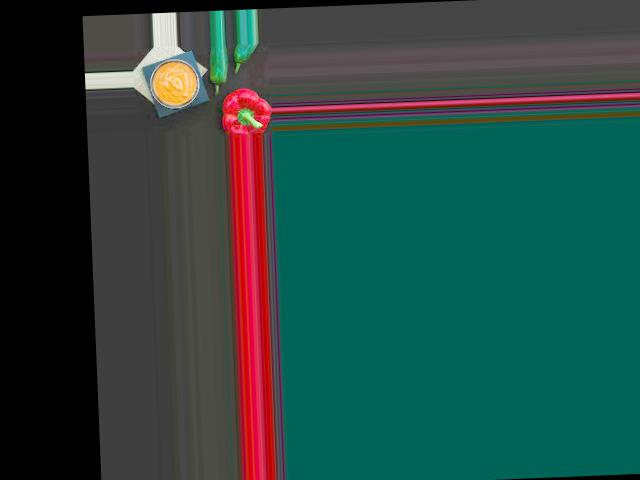bell_pepper: (220, 88, 270, 134)
